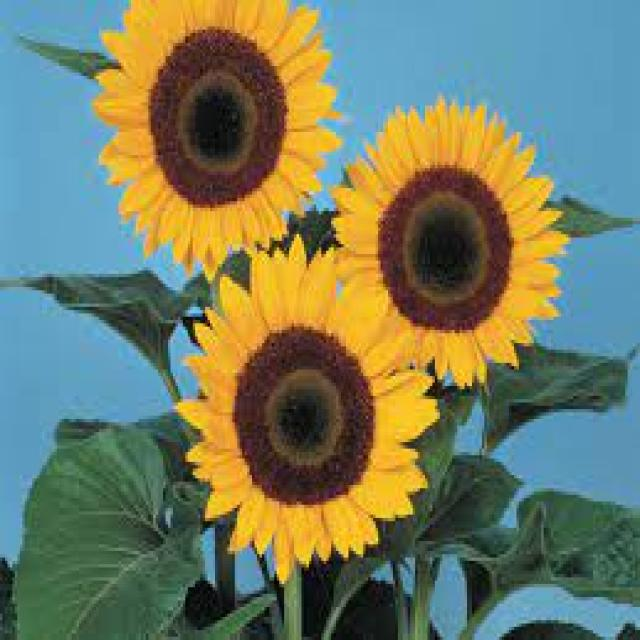sunflower: (166, 221, 450, 593), (325, 82, 574, 394), (86, 0, 354, 287)
